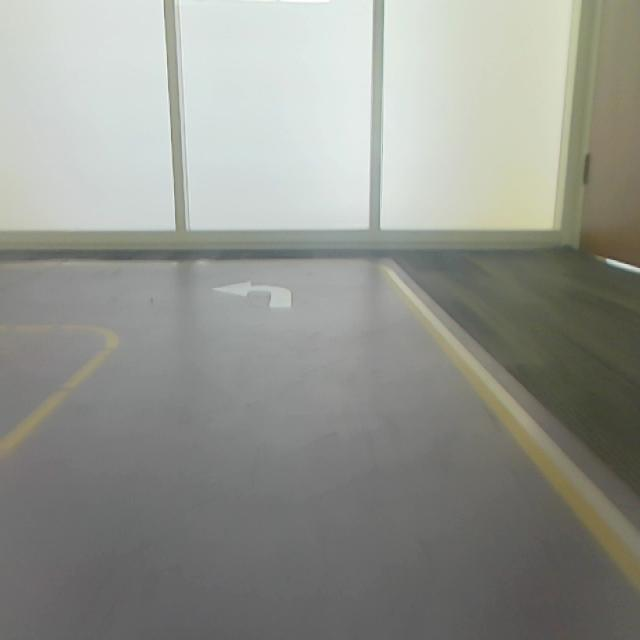left_lane: (0, 339, 121, 461)
right_lane: (384, 266, 640, 594)
